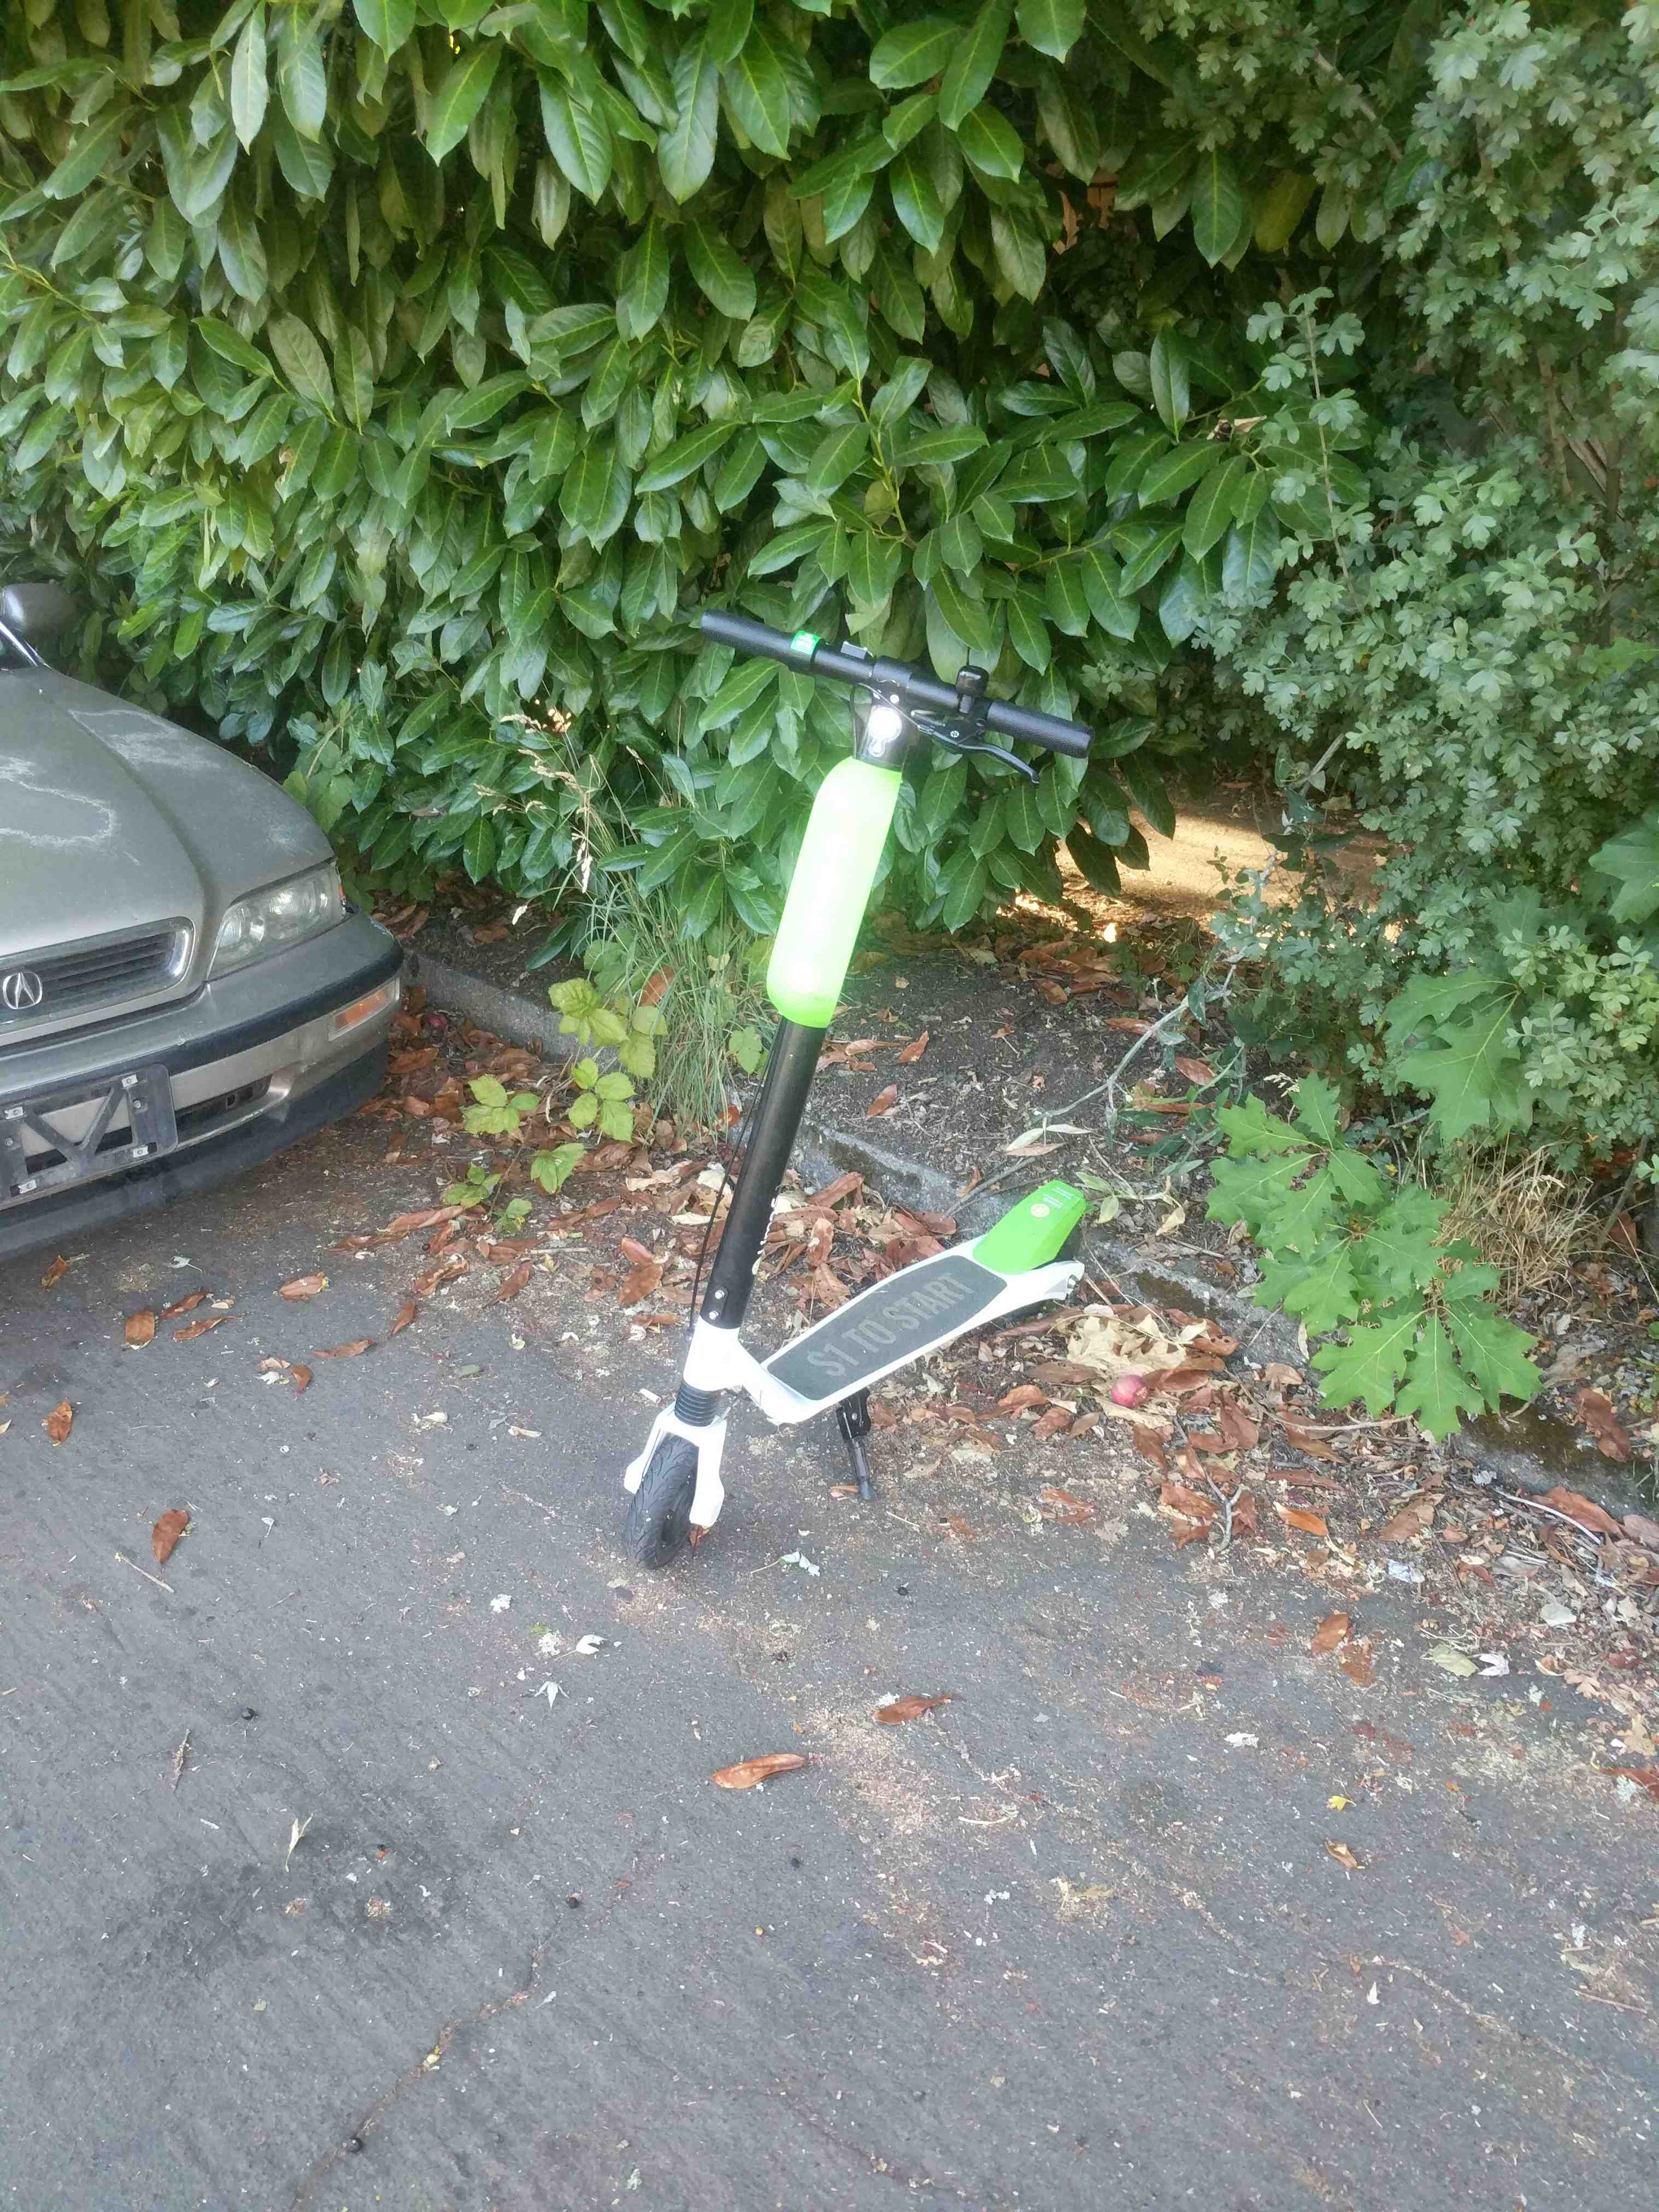scooter: (598, 563, 1176, 1646)
